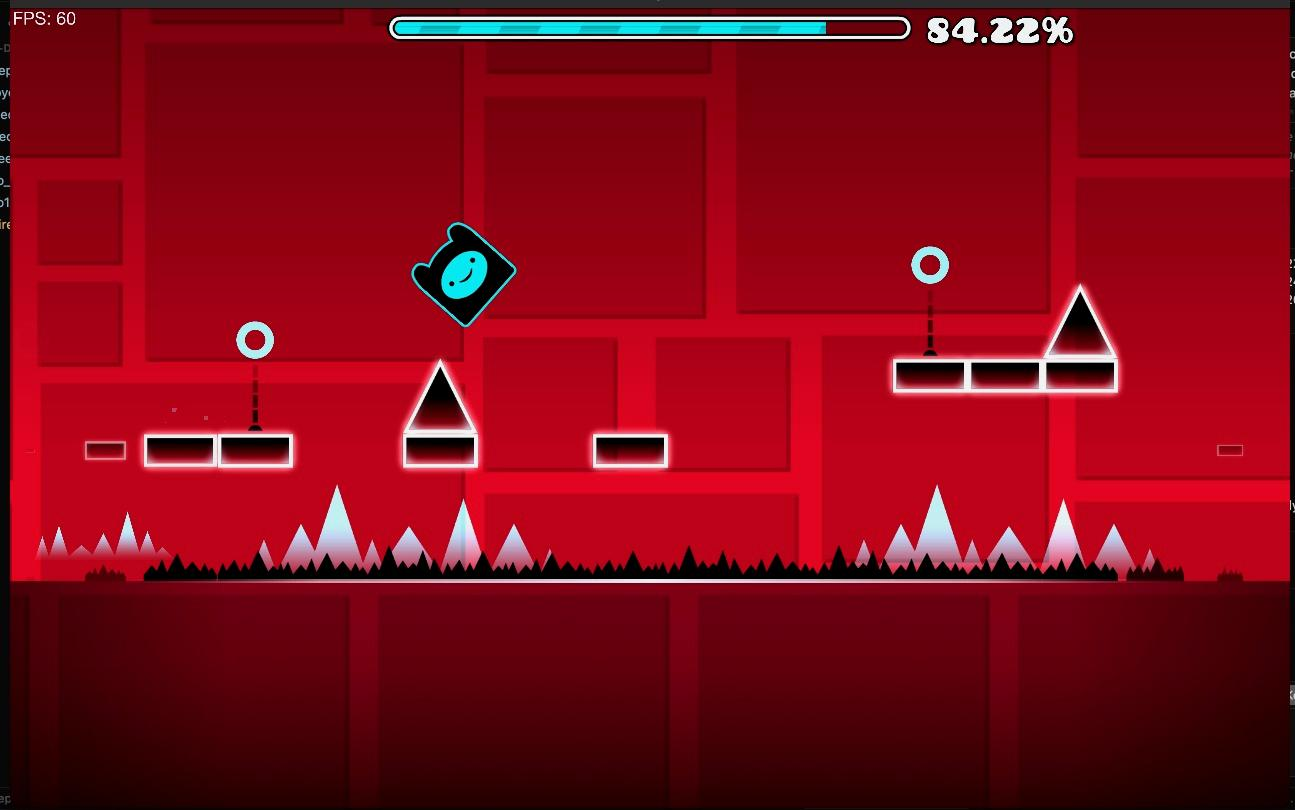platform: (896, 359, 1119, 389), (149, 436, 292, 466), (596, 439, 673, 468)
player: (412, 223, 515, 327)
spike: (36, 487, 1183, 580), (1046, 289, 1112, 355), (408, 363, 472, 430)
